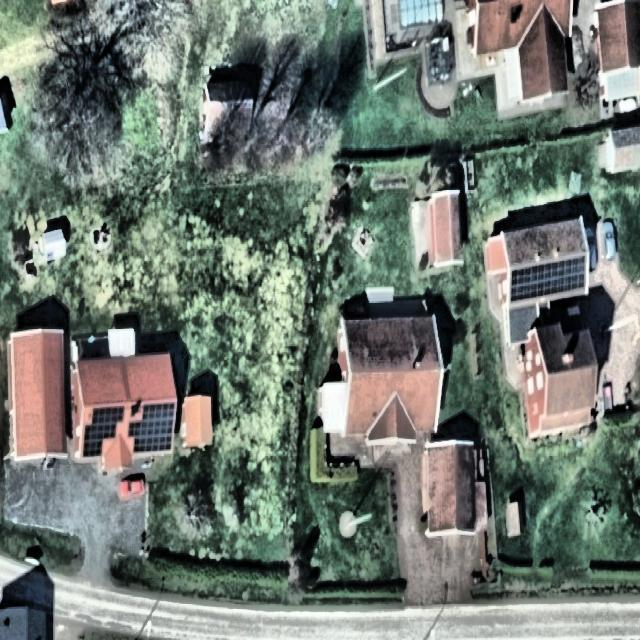roof_pv: (82, 403, 125, 457), (549, 252, 589, 299), (510, 261, 548, 307), (128, 419, 174, 453), (143, 404, 177, 420)
